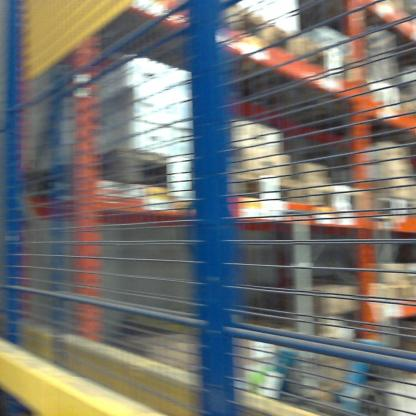pallet: (42, 148, 221, 219), (254, 44, 360, 118), (176, 15, 301, 65), (188, 158, 310, 209), (299, 177, 375, 218), (376, 188, 416, 236)
pallet_truck: (254, 194, 398, 415)
